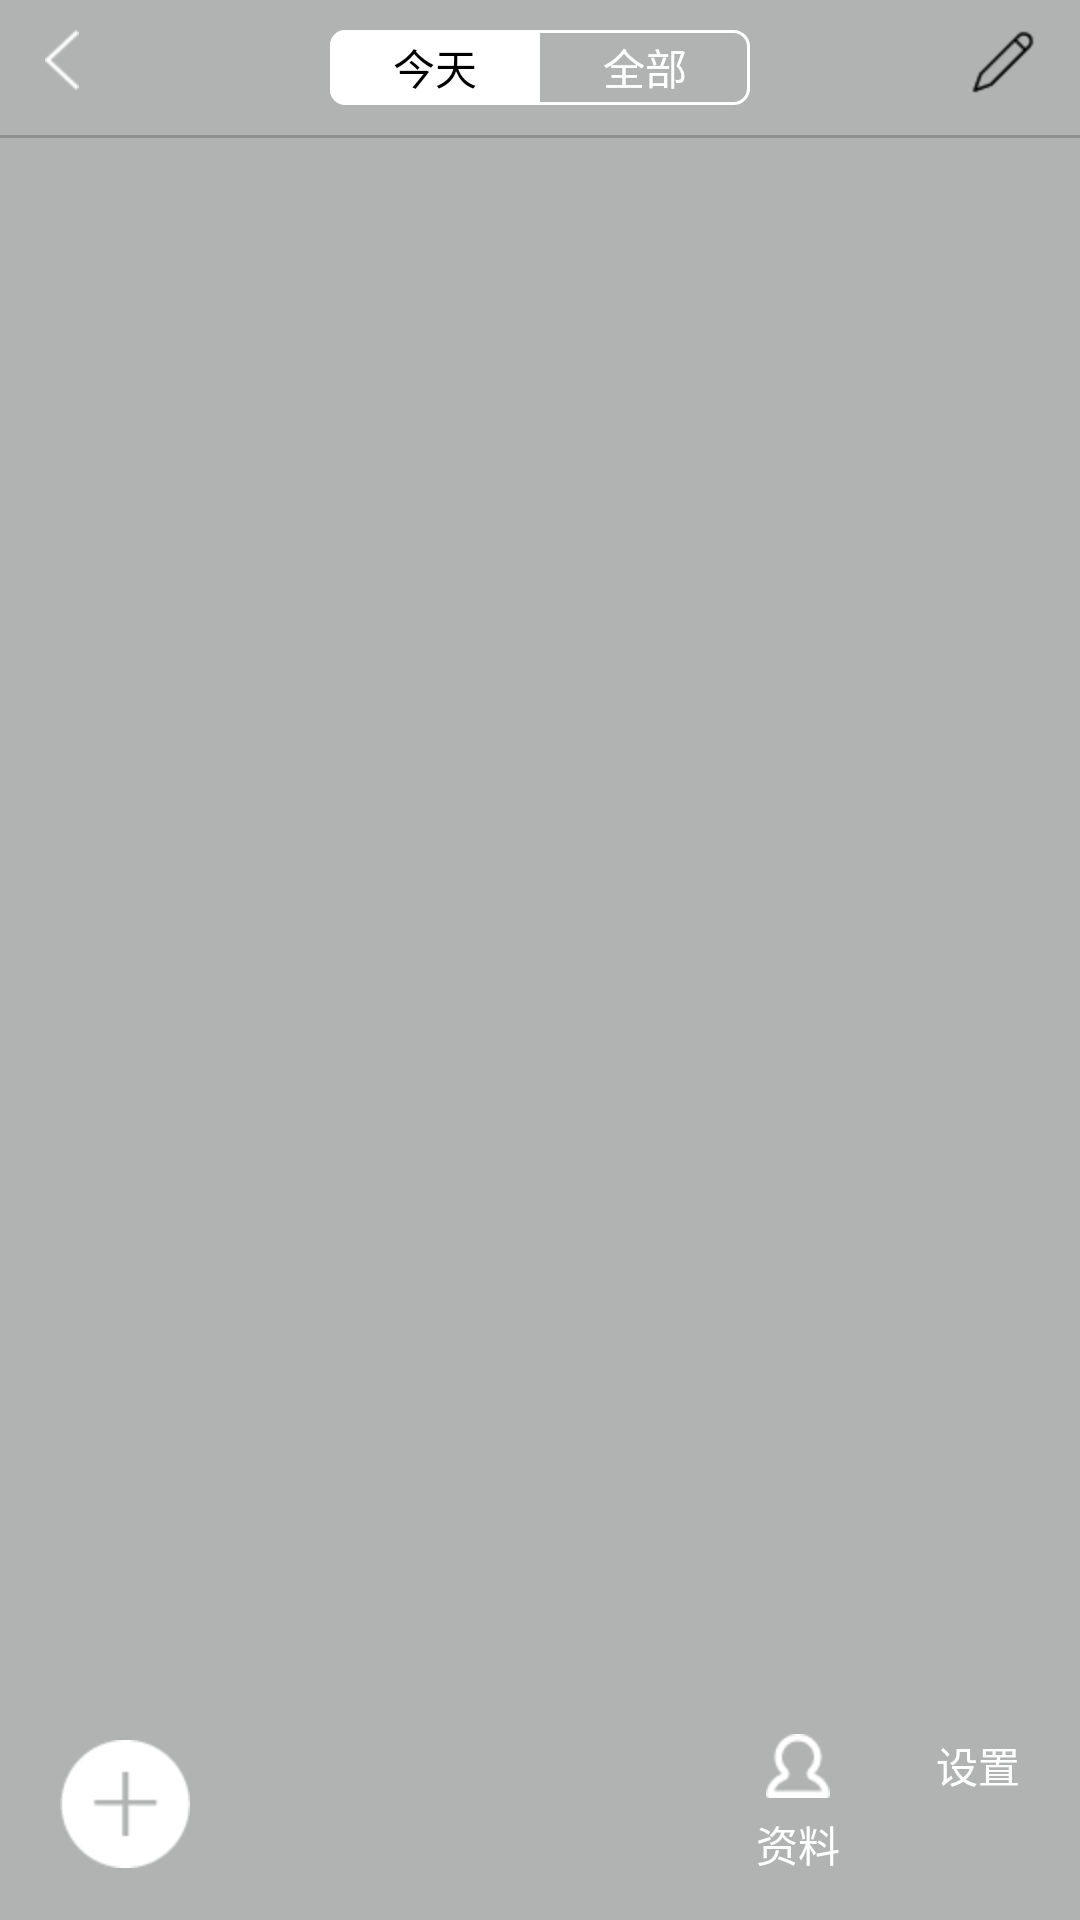

Where to tap for icons on this 1080 × 1920 app screen, as point (x, y):
addhabit: point (125, 1804)
back: point (62, 60)
bianji: point (1003, 62)
